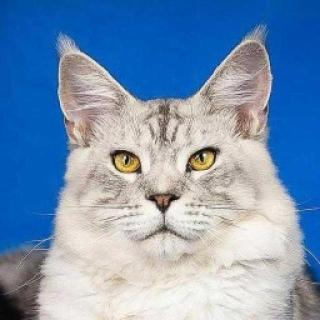cat: (57, 42, 280, 272)
nose: (139, 168, 193, 220)
